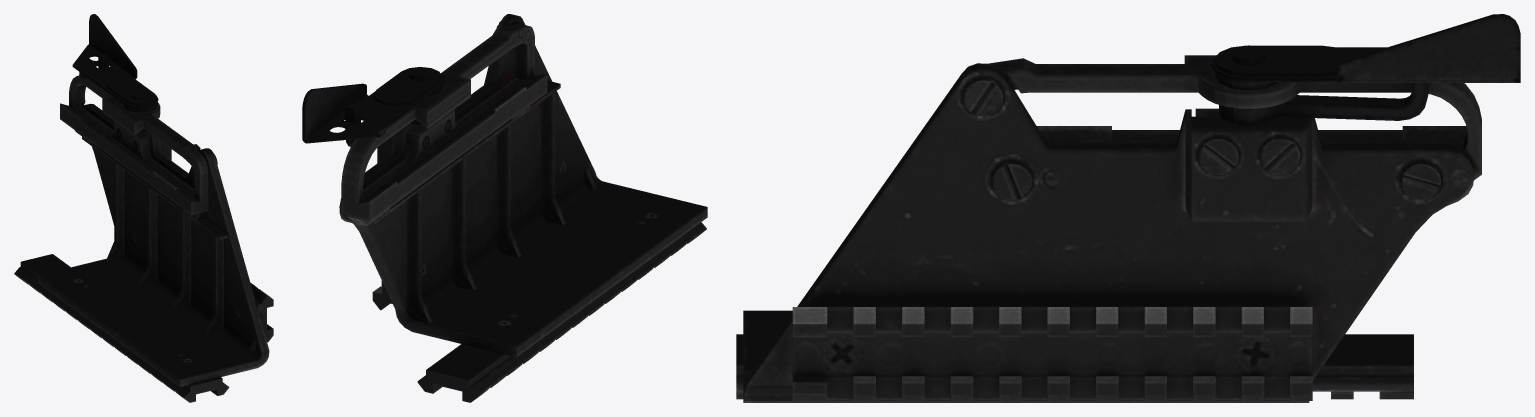
3 renders of one model, left to right at view 1: azimuth 30°, elevation 25°; view 2: azimuth 150°, elevation 25°; view 3: azimuth 270°, elevation 25°, orthographic. The views are drawn at different scales.
Parts seen in each view (by area): view 1: TW_591ee00d86f774592f7b841e_PZ_Import; view 2: TW_591ee00d86f774592f7b841e_PZ_Import; view 3: TW_591ee00d86f774592f7b841e_PZ_Import.
Boxes of the visible parts, bbox=[...] form: TW_591ee00d86f774592f7b841e_PZ_Import: bbox=[14, 14, 273, 402]; TW_591ee00d86f774592f7b841e_PZ_Import: bbox=[302, 14, 707, 402]; TW_591ee00d86f774592f7b841e_PZ_Import: bbox=[736, 14, 1520, 402].
Size of the model in its own units: 0.0292 by 0.0933 by 0.0586.
1 material, 1 textured.
